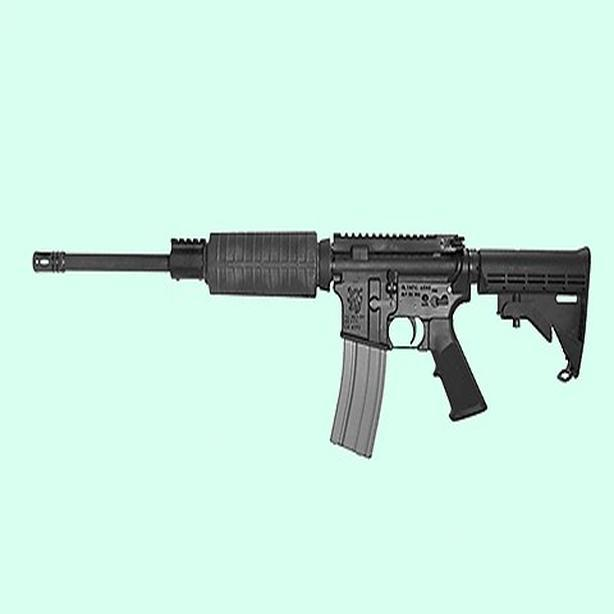Firearm: (14, 199, 609, 474)
